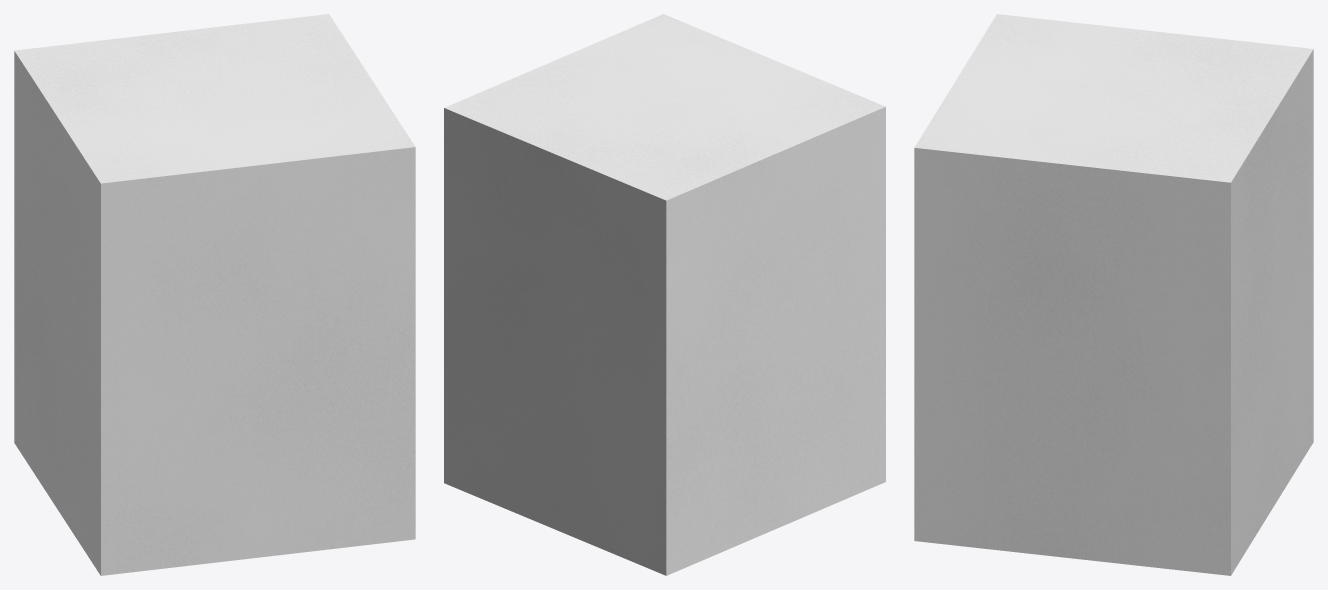
The model's file is EspacioTelefonica.gltf.
3 views of the same model, side by side, from view 1: azimuth 30°, elevation 25°; view 2: azimuth 150°, elevation 25°; view 3: azimuth 270°, elevation 25° (orthographic). The views are drawn at different scales.
Parts seen in each view (by area): view 1: EspacioTelefonica; view 2: EspacioTelefonica; view 3: EspacioTelefonica.
Part boxes in pixels (left/top/right/bottom): EspacioTelefonica: left=14, top=14, right=415, bottom=575; EspacioTelefonica: left=444, top=14, right=885, bottom=575; EspacioTelefonica: left=914, top=14, right=1313, bottom=575.
Bounding box in the file's own units: 0.7868 × 0.855 × 0.7868.
1 material, 1 textured.
